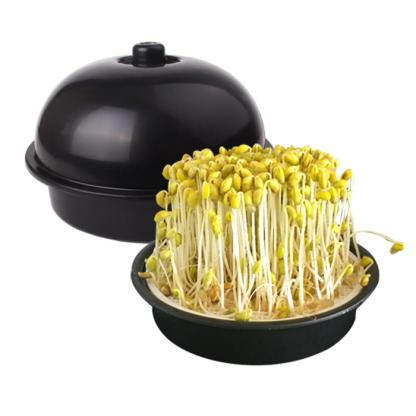bean sprouts: (176, 149, 350, 299)
